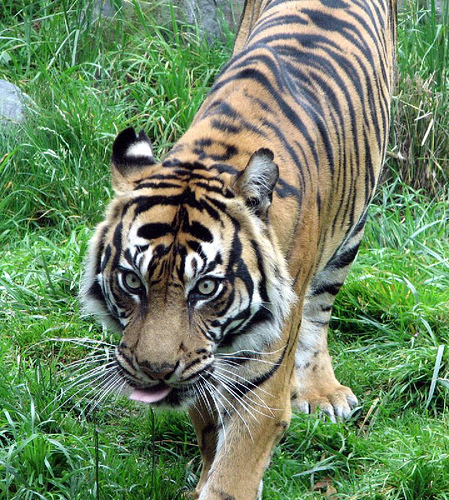Tigre: (77, 1, 392, 470)
